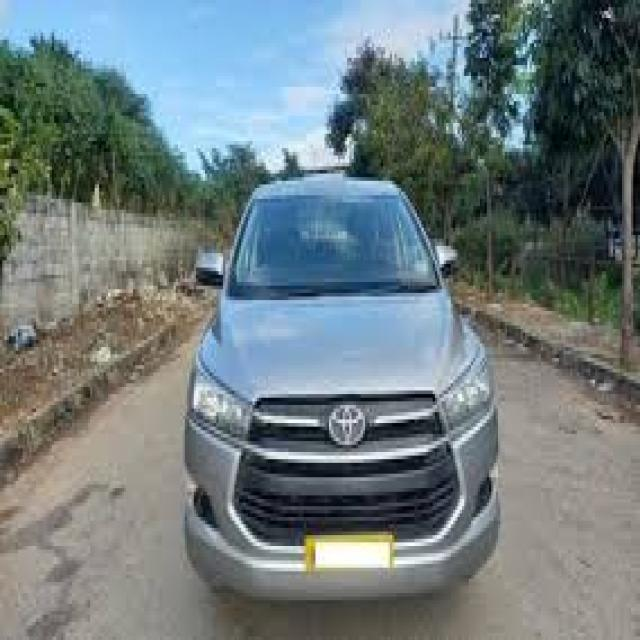cars: (177, 167, 509, 607)
